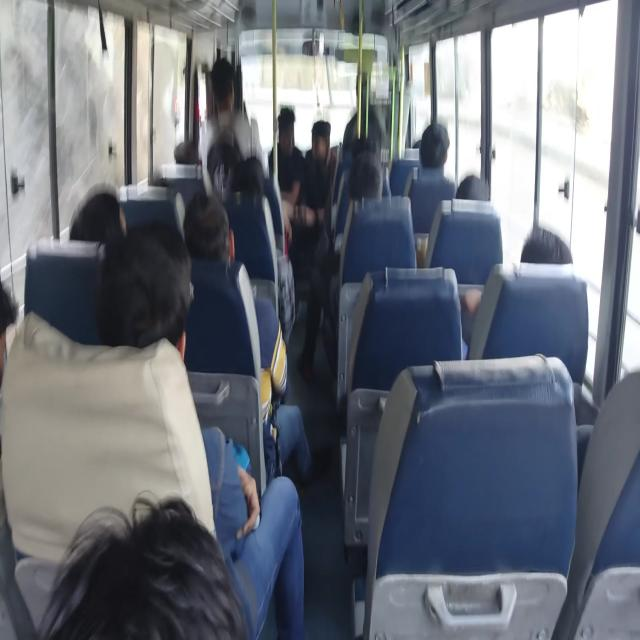person: (42, 451, 210, 640), (97, 242, 163, 345), (0, 261, 50, 384), (79, 184, 140, 262), (521, 214, 567, 267), (204, 122, 236, 185), (212, 45, 242, 112), (188, 188, 226, 240), (228, 154, 270, 201), (351, 142, 385, 195), (348, 124, 388, 162), (132, 144, 160, 195), (455, 169, 488, 212), (396, 124, 434, 157), (270, 97, 299, 138), (426, 118, 452, 160), (308, 118, 331, 161), (163, 132, 183, 161)
